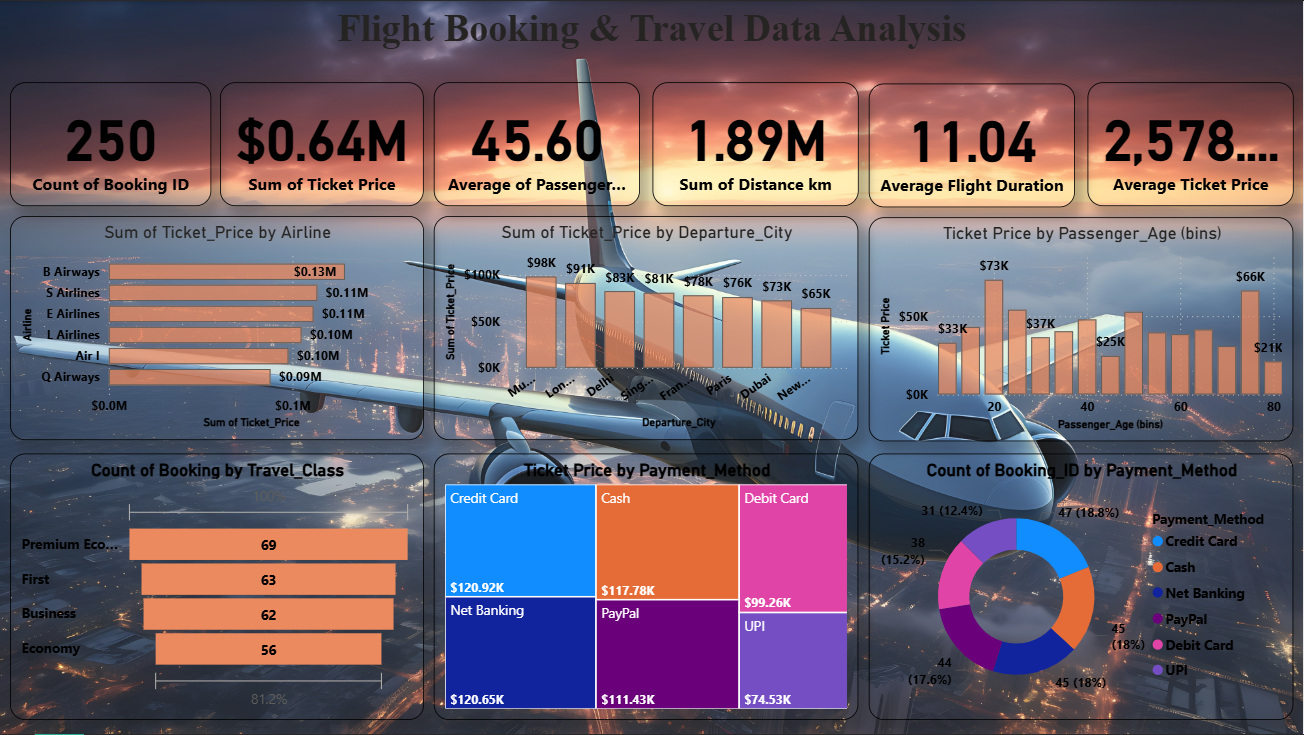

The dashboard page shown, as its layout file describes it:
{"tool":"powerbi","page":{"name":"Page 1","canvas":[1280,720],"ordinal":0},"visuals":[{"type":"card","fields":{"Values":["Count(flight_bookings_sample.Booking_ID)"]},"box":[9.8,79.8,197.5,121.5],"z":0},{"type":"textbox","box":[0,0,1279.8,71.2],"z":1000},{"type":"card","fields":{"Values":["Sum(flight_bookings_sample.Ticket_Price)"]},"box":[216,79.8,200,121.5],"z":2000},{"type":"card","fields":{"Values":["Avg(flight_bookings_sample.Passenger_Age)"]},"box":[425.8,79.8,202.5,121.5],"z":3000},{"type":"card","fields":{"Values":["Sum(flight_bookings_sample.Distance_km)"]},"box":[640.5,79.8,202.5,121.5],"z":4000},{"type":"card","fields":{"Values":["Avg(flight_bookings_sample.Flight_Duration_hr)"]},"box":[852.8,81,202.5,121.5],"z":5000},{"type":"card","fields":{"Values":["flight_bookings_sample.Average Ticket Price"]},"box":[1067.5,79.8,202.5,121.5],"z":6000},{"type":"barChart","fields":{"Category":["flight_bookings_sample.Airline"],"Y":["Sum(flight_bookings_sample.Ticket_Price)"]},"box":[9.8,211,406.1,219.6],"z":7000},{"type":"columnChart","fields":{"Y":["Sum(flight_bookings_sample.Ticket_Price)"],"Category":["flight_bookings_sample.Departure_City"]},"box":[425.8,211,417.2,219.6],"z":8000},{"type":"funnel","fields":{"Category":["flight_bookings_sample.Travel_Class"],"Y":["CountNonNull(flight_bookings_sample.Booking_ID)"]},"box":[9.8,444.2,406.1,261.4],"z":9000},{"type":"treemap","fields":{"Group":["flight_bookings_sample.Payment_Method"],"Values":["Sum(flight_bookings_sample.Ticket_Price)"]},"box":[425.8,444.2,417.2,261.4],"z":10000},{"type":"donutChart","fields":{"Category":["flight_bookings_sample.Payment_Method"],"Y":["CountNonNull(flight_bookings_sample.Booking_ID)"]},"box":[852.8,444.2,417.2,261.4],"z":11000},{"type":"columnChart","fields":{"Y":["Sum(flight_bookings_sample.Ticket_Price)"],"Category":["flight_bookings_sample.Passenger_Age (bins)"]},"box":[852.8,212.3,417.2,219.6],"z":12000}]}

Visuals, with their boxes in screenshot pixels (x1, y1, x2, y2), scaled from the page's 1280x720 canvas onto the 1304x735 screenshot:
card - Count(flight_bookings_sample.Booking_ID): x1=10, y1=81, x2=211, y2=205
textbox: x1=0, y1=0, x2=1303, y2=73
card - Sum(flight_bookings_sample.Ticket_Price): x1=220, y1=81, x2=424, y2=205
card - Avg(flight_bookings_sample.Passenger_Age): x1=434, y1=81, x2=640, y2=205
card - Sum(flight_bookings_sample.Distance_km): x1=653, y1=81, x2=859, y2=205
card - Avg(flight_bookings_sample.Flight_Duration_hr): x1=869, y1=83, x2=1075, y2=207
card - flight_bookings_sample.Average Ticket Price: x1=1088, y1=81, x2=1294, y2=205
barChart - flight_bookings_sample.Airline x Sum(flight_bookings_sample.Ticket_Price): x1=10, y1=215, x2=424, y2=440
columnChart - Sum(flight_bookings_sample.Ticket_Price) x flight_bookings_sample.Departure_City: x1=434, y1=215, x2=859, y2=440
funnel - flight_bookings_sample.Travel_Class x CountNonNull(flight_bookings_sample.Booking_ID): x1=10, y1=453, x2=424, y2=720
treemap - flight_bookings_sample.Payment_Method x Sum(flight_bookings_sample.Ticket_Price): x1=434, y1=453, x2=859, y2=720
donutChart - flight_bookings_sample.Payment_Method x CountNonNull(flight_bookings_sample.Booking_ID): x1=869, y1=453, x2=1294, y2=720
columnChart - Sum(flight_bookings_sample.Ticket_Price) x flight_bookings_sample.Passenger_Age (bins): x1=869, y1=217, x2=1294, y2=441
